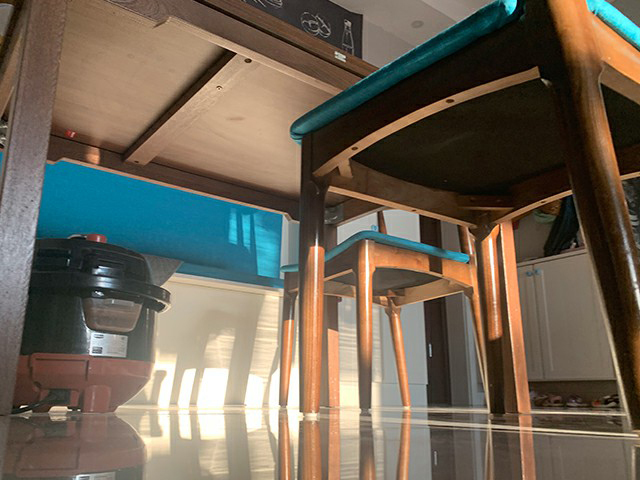stool: (289, 1, 640, 428), (279, 208, 491, 413)
table: (1, 1, 529, 414)
